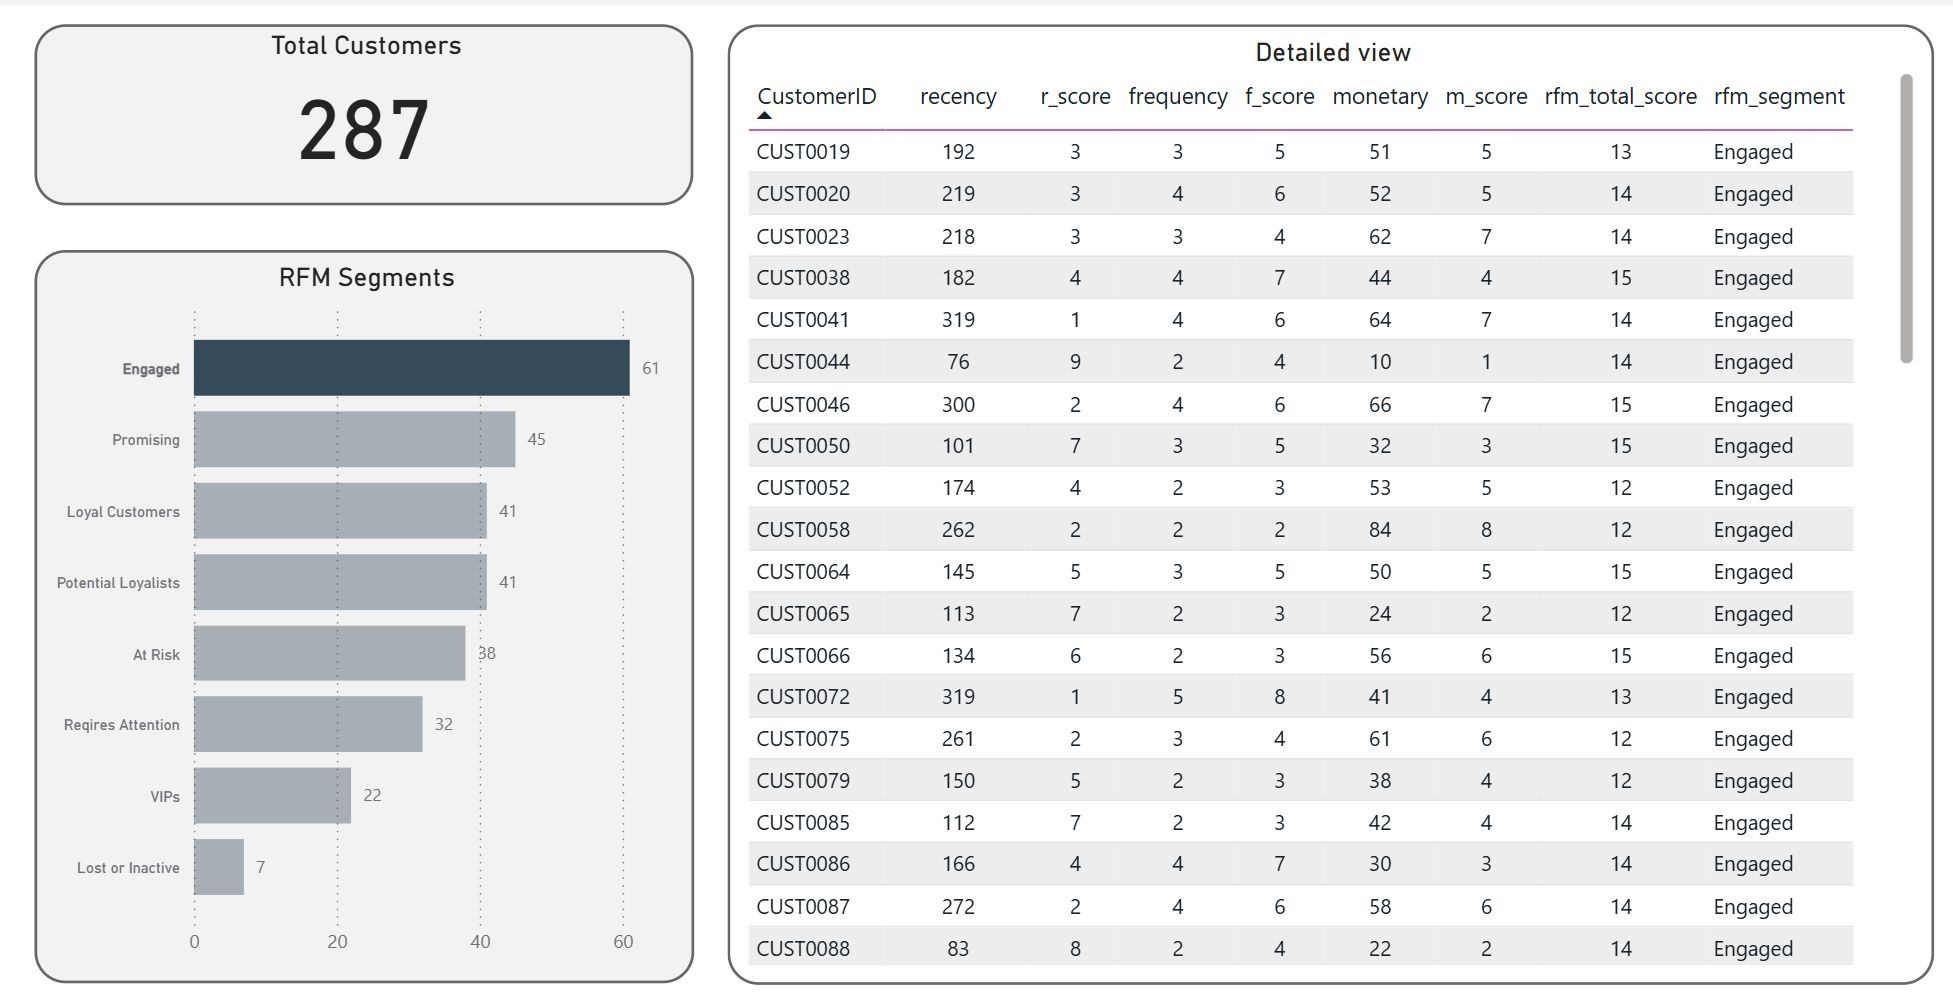

Layout of this report page (visuals, bound fields, positions):
{"tool":"powerbi","page":{"name":"RFM Overview","canvas":[1280,720],"ordinal":0},"visuals":[{"type":"card","title":"Total Customers","fields":{"Values":["Query1.Total_Customers"]},"box":[29.4,52.6,423.8,116.7],"z":0},{"type":"clusteredBarChart","title":"RFM Segments","fields":{"Category":["Query1.rfm_segment"],"Y":["CountNonNull(Query1.CustomerID)"]},"box":[29.3,198.1,424.3,472.4],"z":1000},{"type":"tableEx","title":"Detailed view","fields":{"Values":["Query1.CustomerID","Query1.recency","Query1.r_score","Query1.frequency","Query1.f_score","Query1.monetary","Query1.m_score","Query1.rfm_total_score","Query1.rfm_segment"]},"box":[474.9,52.4,776.5,619.1],"z":2000}]}

Visuals, with their boxes on the page's 1280x720 design canvas (x1, y1, x2, y2). These are canvas units, not pixel positions in the 1953x1006 screenshot, which may show the page scaled, cropped or inside an application window:
"Total Customers" card: [left=29, top=53, right=453, bottom=169]
"RFM Segments" clusteredBarChart: [left=29, top=198, right=454, bottom=670]
"Detailed view" tableEx: [left=475, top=52, right=1251, bottom=672]
